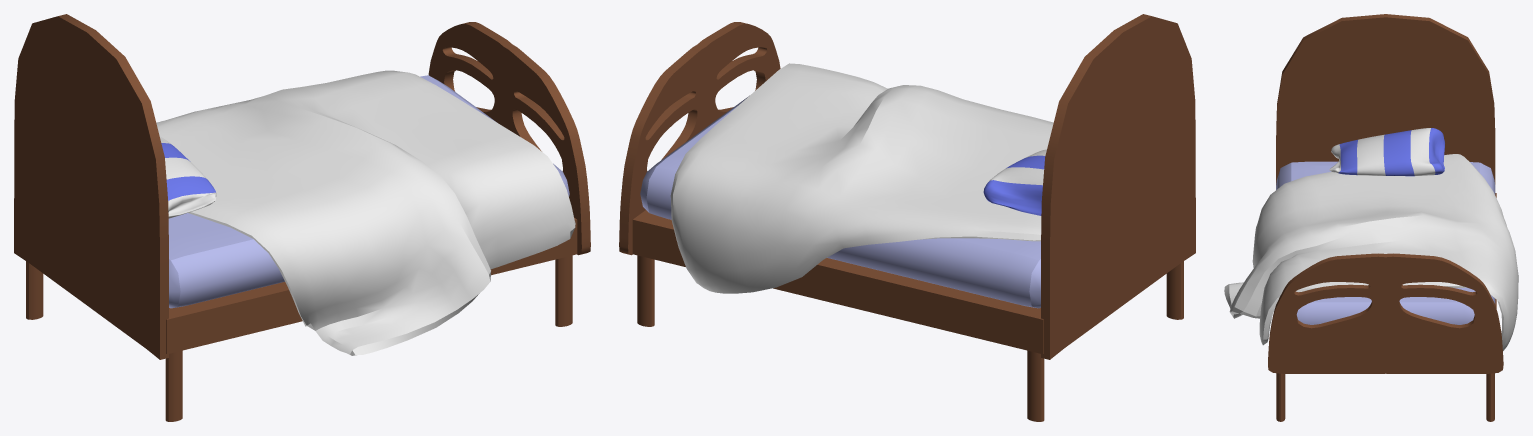
The model's file is Bed.fbx.
The picture shows the model from 3 angles, left to right: view 1: azimuth 30°, elevation 25°; view 2: azimuth 150°, elevation 25°; view 3: azimuth 270°, elevation 25°; orthographic projection. The views are drawn at different scales.
Visible parts, largest first — view 1: simply_coll.010; view 2: simply_coll.010; view 3: simply_coll.010.
Boxes of the visible parts, bbox=[...] form: simply_coll.010: bbox=[14, 14, 590, 421]; simply_coll.010: bbox=[619, 14, 1195, 421]; simply_coll.010: bbox=[1224, 14, 1518, 421].
Bounding box in the file's own units: 129 × 98.06 × 102.
